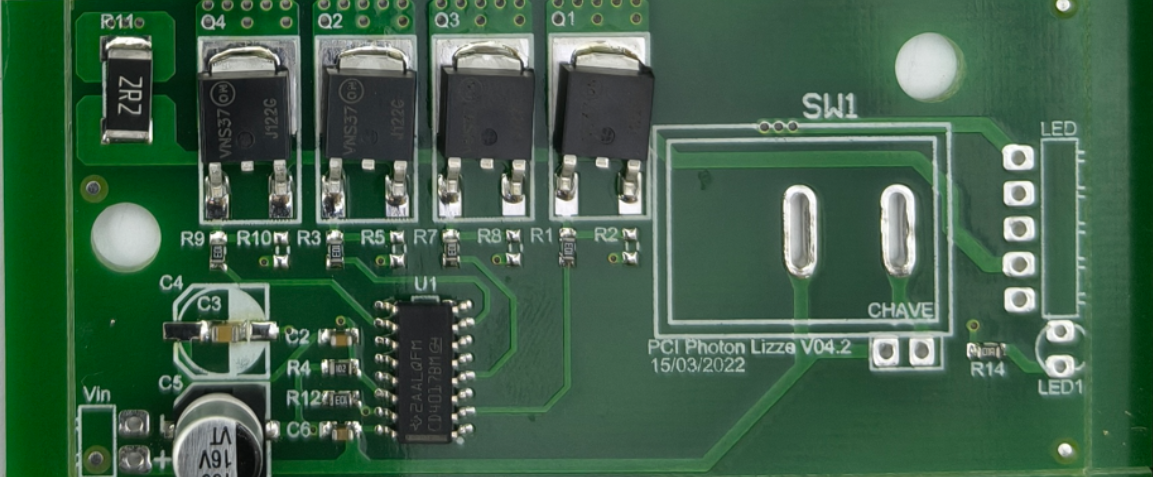C+: (320, 415, 364, 445), (318, 325, 360, 353)
R+: (323, 224, 353, 272), (320, 352, 364, 383), (318, 385, 362, 413), (437, 223, 463, 267), (205, 228, 232, 270), (557, 228, 579, 269), (967, 339, 1006, 360)
R/CFaltante: (270, 224, 293, 271), (504, 222, 526, 271), (388, 226, 410, 273), (619, 226, 643, 269)
U+: (370, 293, 481, 452)
